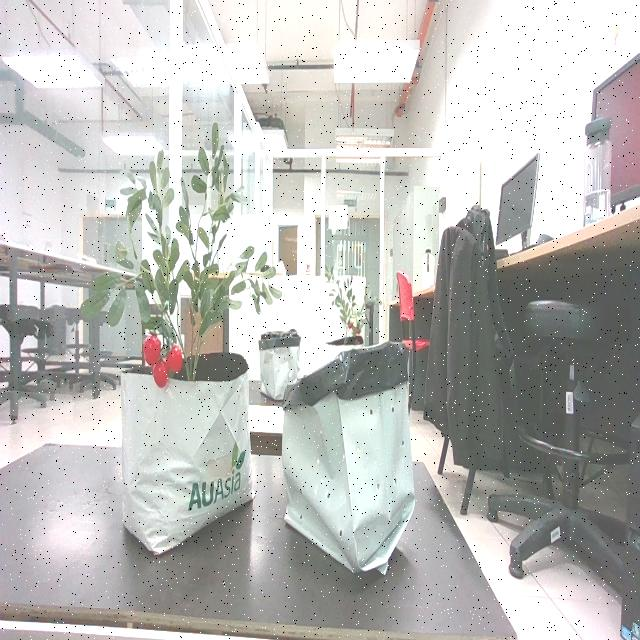Soilbag: (281, 347, 415, 578), (120, 355, 252, 558)
Tomato: (141, 332, 185, 389)
plant: (80, 124, 282, 388)
